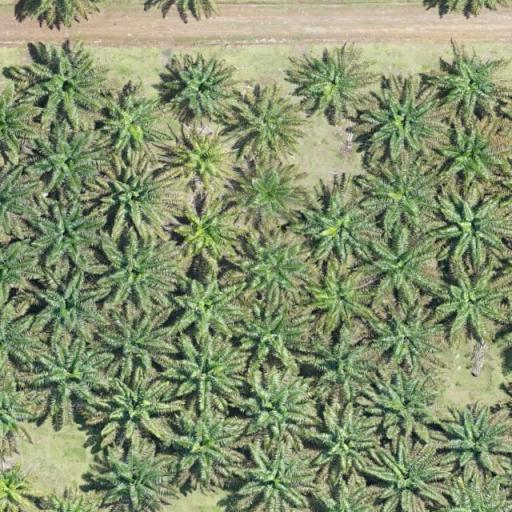Ganoderma: (182, 136, 224, 178), (0, 472, 26, 506)
